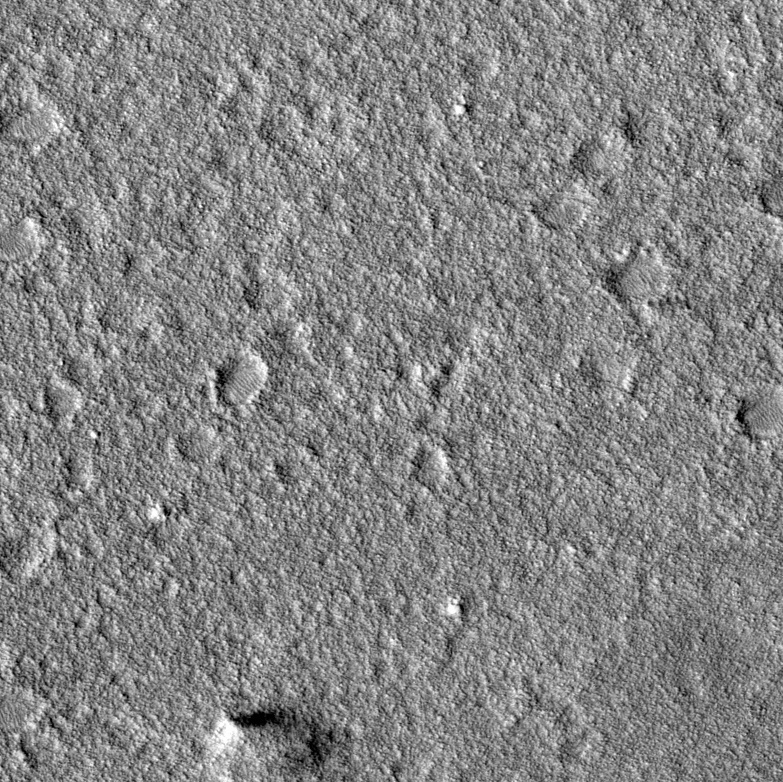dust_devil: (201, 699, 359, 782)
